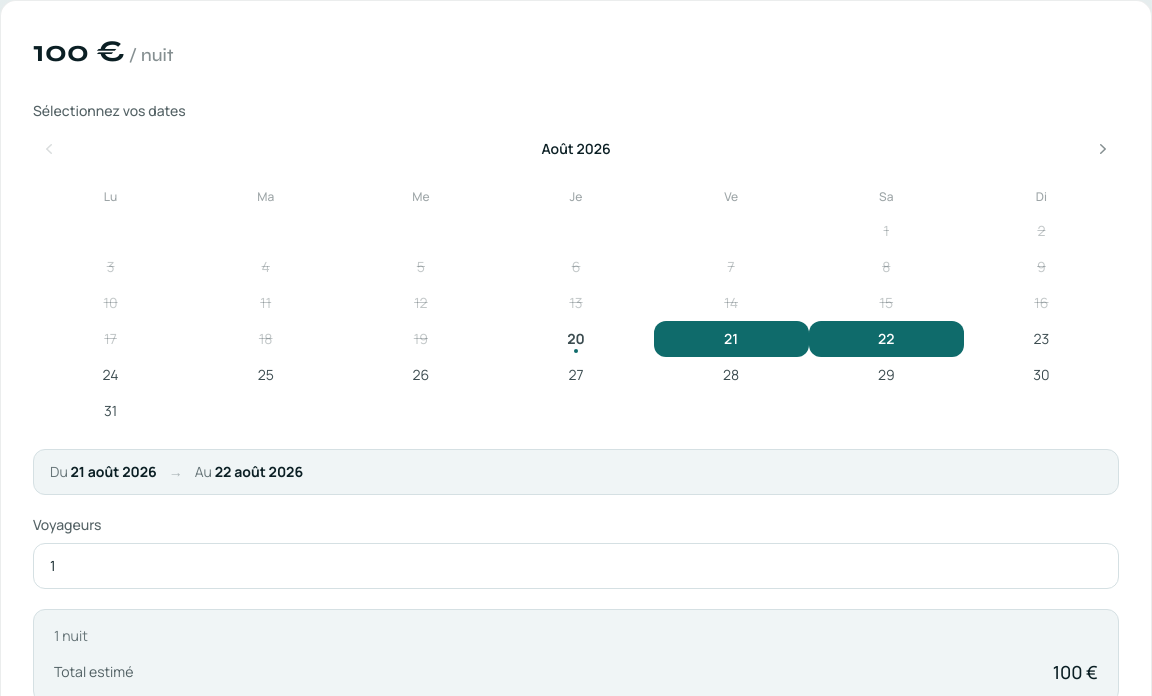
Test: RoomBookingPanel › désactive les dates indisponibles et les départs en conflit
Click the button named "Mois suivant" at coordinates (1103, 149), box [1087,133,1119,165]
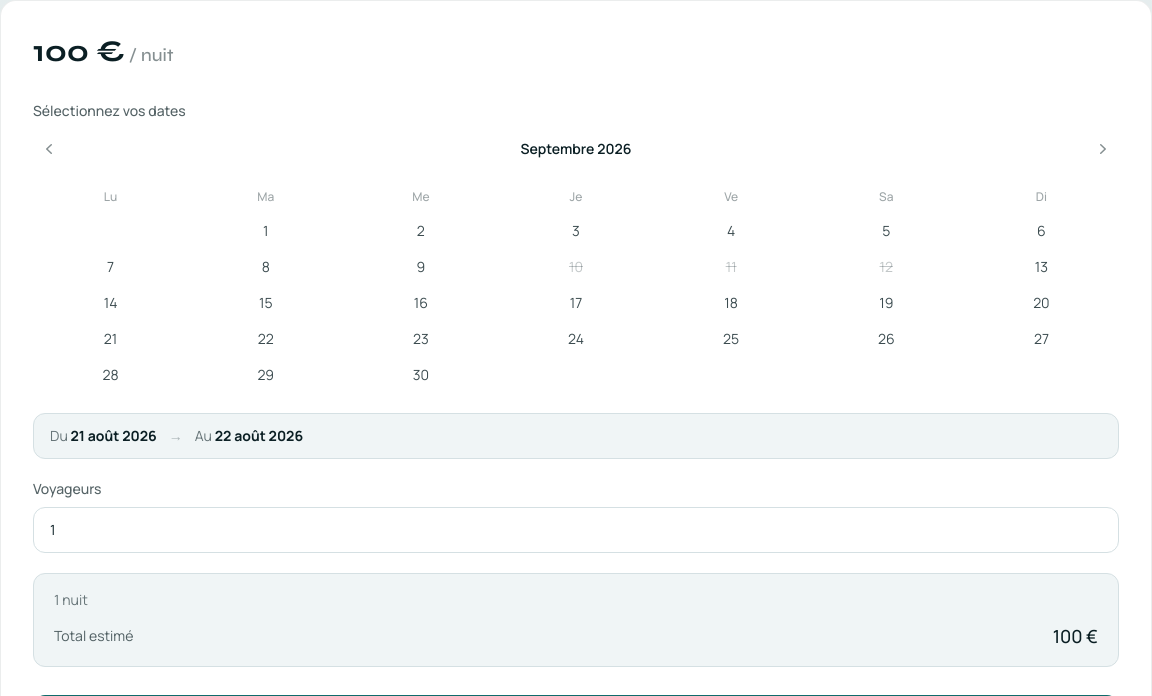
Check: the button with test id "calendar-day-2026-09-11" is disabled, box [654,249,809,285]
Click the button "8" at coordinates (266, 267), box [188,249,343,285]
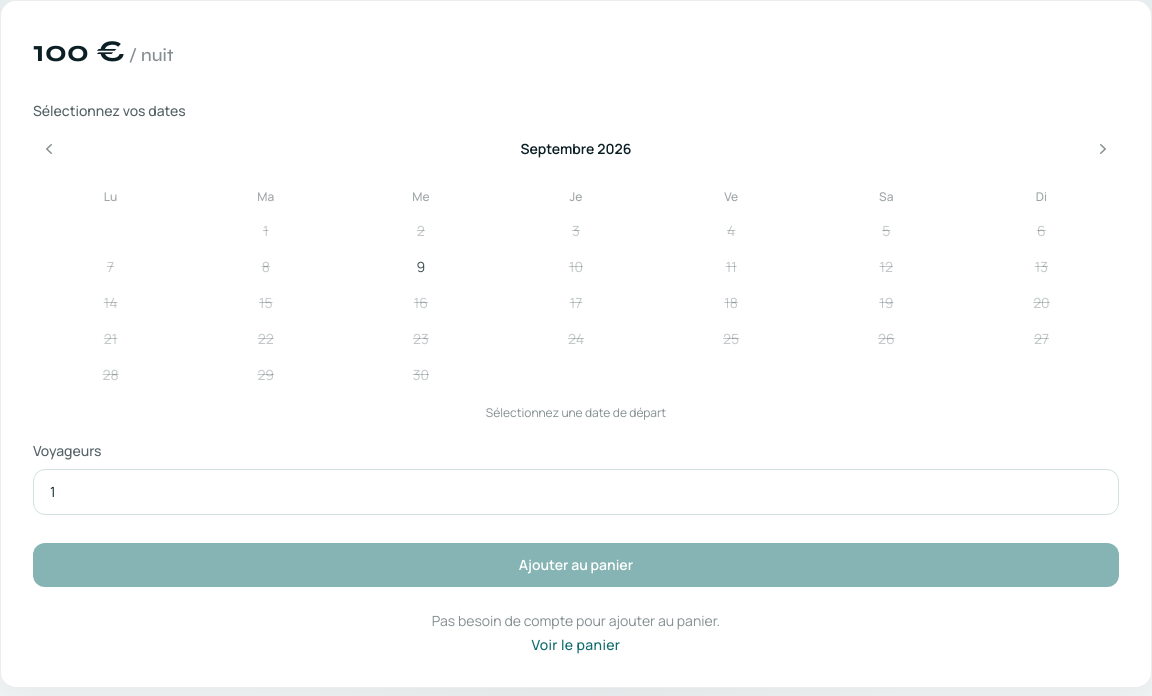
Check: the button with test id "calendar-day-2026-09-14" is disabled, box [33,285,188,321]
Check: the button "Ajouter au panier" is disabled, box [33,543,1119,587]
